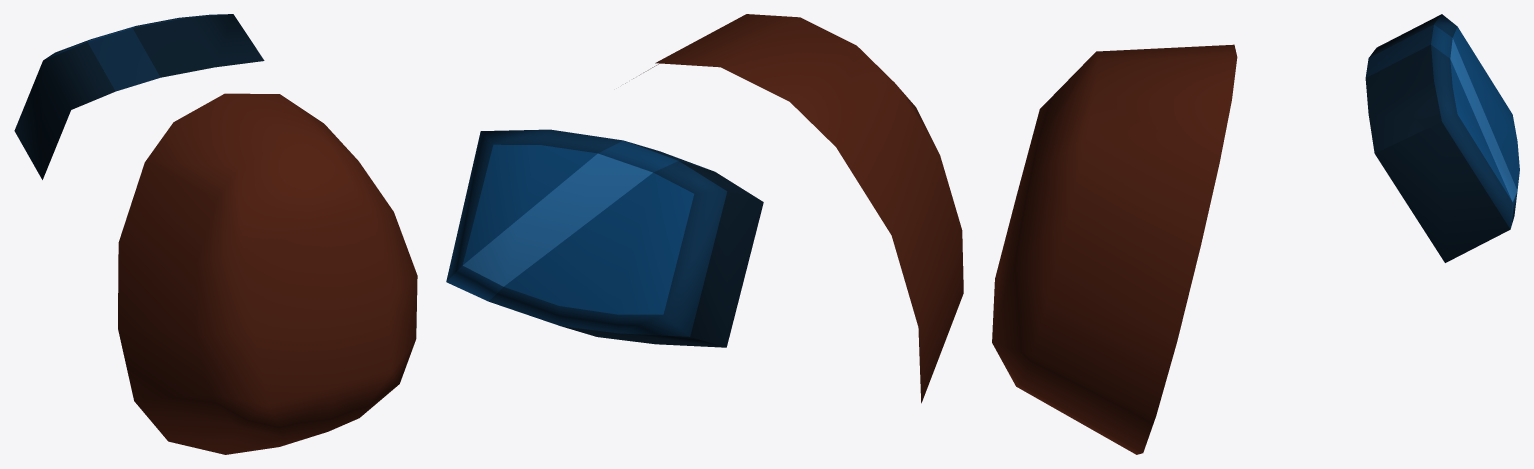
File: hat_amongEgg_06.glb
3 views of the same model, side by side, from view 1: azimuth 30°, elevation 25°; view 2: azimuth 150°, elevation 25°; view 3: azimuth 270°, elevation 25° (orthographic). The views are drawn at different scales.
Parts seen in each view (by area): view 1: hat_amongEgg_06; view 2: hat_amongEgg_06; view 3: hat_amongEgg_06.
Part boxes in pixels (left/top/right/bottom): hat_amongEgg_06: left=14, top=14, right=417, bottom=454; hat_amongEgg_06: left=446, top=14, right=963, bottom=403; hat_amongEgg_06: left=992, top=14, right=1519, bottom=454.
Size of the model in its own units: 0.3682 by 0.4331 by 0.5396.
